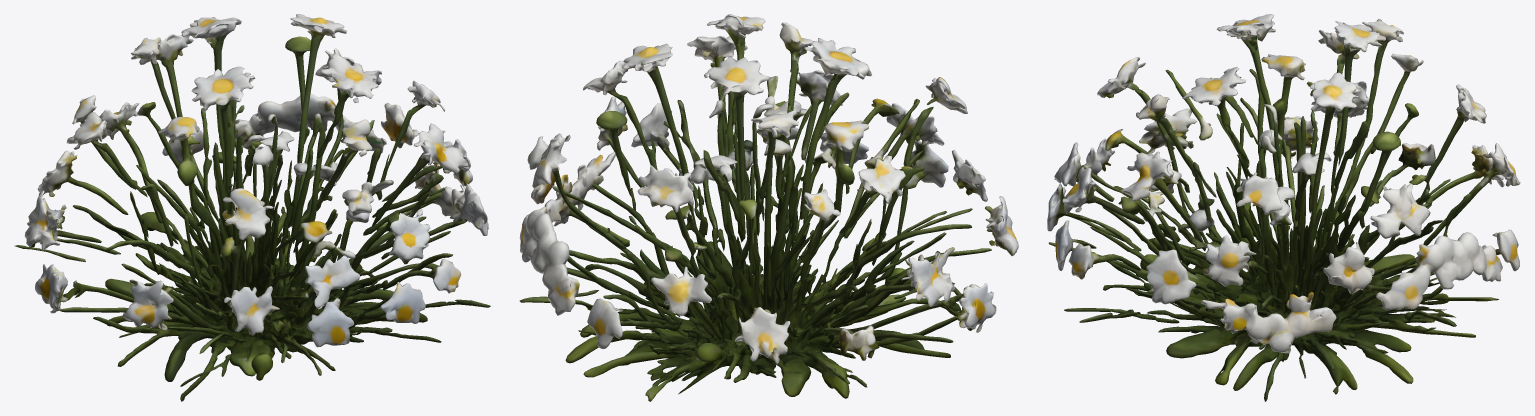
File: nature-flower-wild-white.glb
The picture shows the model from 3 angles, left to right: view 1: azimuth 30°, elevation 25°; view 2: azimuth 150°, elevation 25°; view 3: azimuth 270°, elevation 25°; orthographic projection. The views are drawn at different scales.
Visible parts, largest first — view 1: tripo_node_0648b30e-336e-43ab-a3f1-3bb1658beb5b; view 2: tripo_node_0648b30e-336e-43ab-a3f1-3bb1658beb5b; view 3: tripo_node_0648b30e-336e-43ab-a3f1-3bb1658beb5b.
Boxes of the visible parts, x1,y1,x2,y2 form: tripo_node_0648b30e-336e-43ab-a3f1-3bb1658beb5b: (15, 14, 490, 401); tripo_node_0648b30e-336e-43ab-a3f1-3bb1658beb5b: (519, 14, 1018, 401); tripo_node_0648b30e-336e-43ab-a3f1-3bb1658beb5b: (1047, 14, 1520, 401).
Size of the model in its own units: 0.7306 by 0.5 by 0.7227.
1 material, 1 textured.
